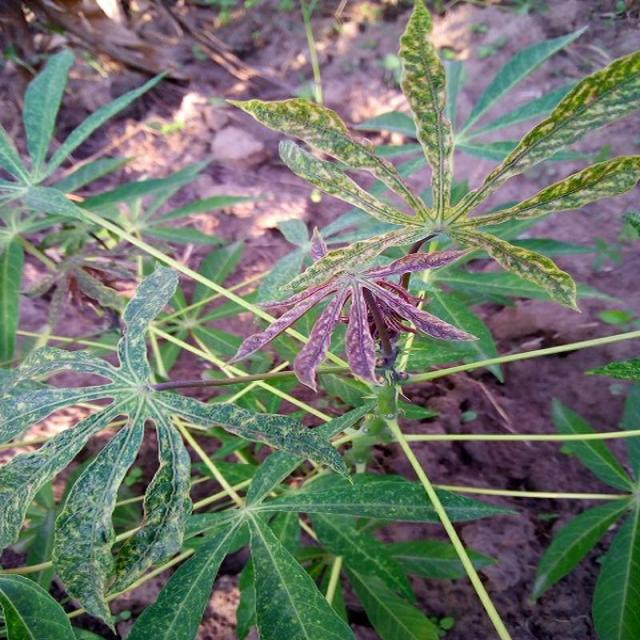cassava leaf: (222, 1, 638, 393), (0, 260, 353, 633)
